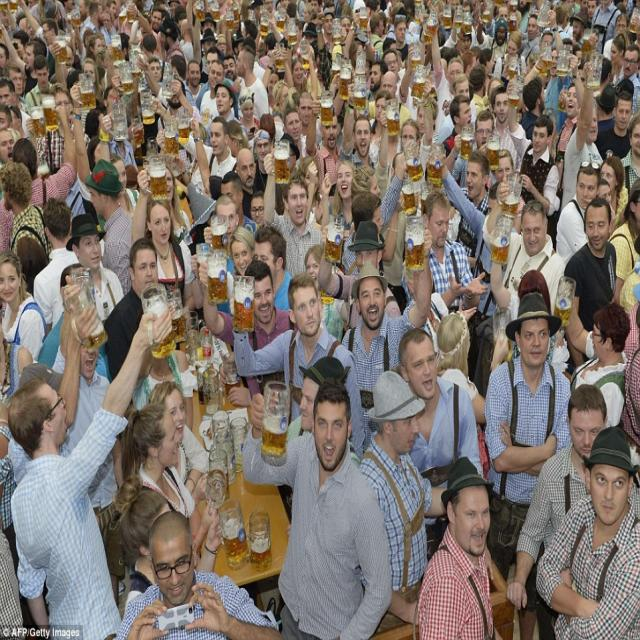body: (5, 286, 175, 639), (237, 374, 394, 639), (482, 289, 573, 640), (231, 272, 364, 464), (356, 368, 447, 640), (272, 57, 552, 142), (423, 139, 519, 385), (507, 382, 609, 613), (532, 421, 640, 639), (50, 302, 126, 608), (112, 508, 284, 639), (239, 0, 640, 56), (339, 225, 434, 460), (396, 327, 485, 558), (0, 0, 192, 104), (111, 472, 226, 618), (482, 174, 564, 371), (195, 256, 298, 410), (279, 355, 362, 541), (415, 455, 498, 640), (433, 308, 511, 482), (0, 100, 78, 254), (119, 400, 202, 542), (489, 228, 565, 376), (130, 193, 197, 351), (554, 300, 630, 432), (36, 260, 114, 386), (401, 186, 478, 313), (563, 195, 619, 368), (341, 149, 409, 280), (262, 145, 326, 279), (103, 235, 160, 383), (146, 379, 211, 508), (344, 153, 408, 278), (438, 150, 494, 278), (32, 196, 80, 339), (64, 212, 124, 325), (562, 59, 605, 209), (189, 115, 249, 218), (190, 194, 240, 316), (81, 109, 137, 217), (0, 161, 55, 270), (0, 249, 48, 365), (551, 80, 583, 254), (512, 112, 560, 223), (554, 158, 602, 266), (24, 80, 78, 175), (304, 241, 348, 340), (607, 177, 640, 308), (306, 98, 344, 198), (620, 254, 640, 439), (192, 0, 237, 82), (252, 222, 293, 311), (140, 104, 194, 164), (220, 169, 260, 243), (594, 89, 634, 162), (202, 225, 255, 277), (198, 58, 236, 130), (236, 43, 270, 122), (204, 78, 242, 148), (162, 162, 194, 245), (339, 110, 377, 178), (598, 154, 630, 234), (327, 158, 358, 232), (562, 56, 638, 84), (618, 112, 640, 189), (235, 147, 258, 220), (282, 107, 307, 167), (251, 128, 273, 193), (595, 178, 617, 240), (236, 89, 262, 141), (0, 103, 23, 161), (83, 107, 107, 142), (491, 146, 513, 180), (249, 189, 265, 228)
